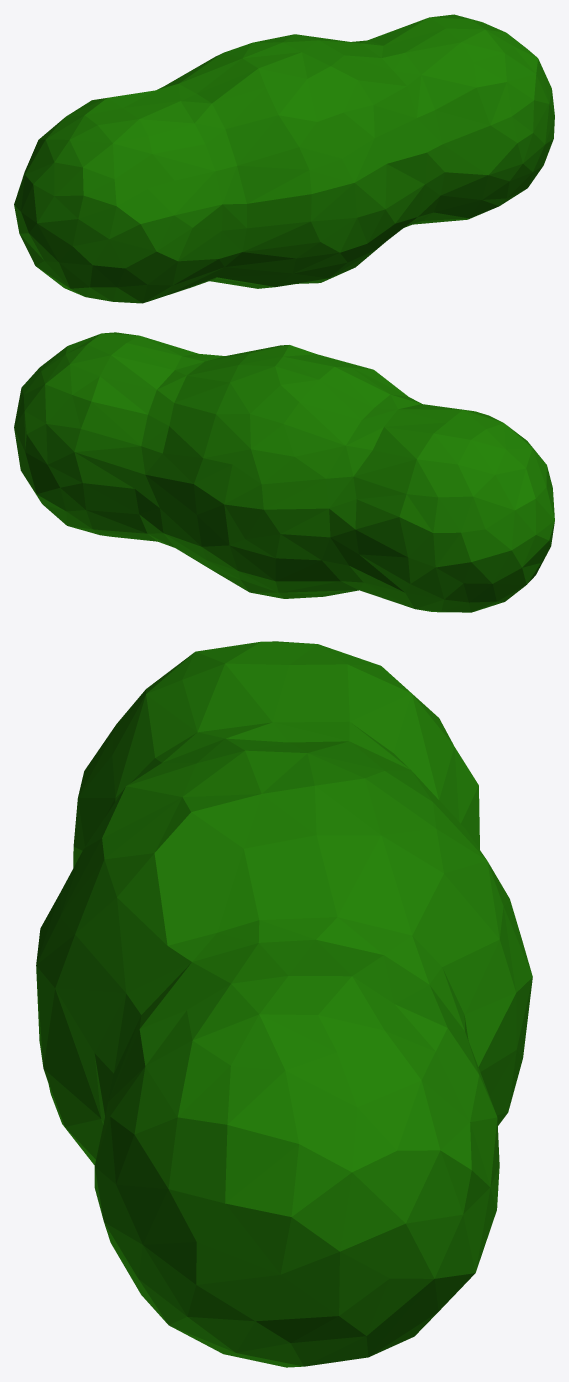
File: newbush.fbx
The picture shows the model from 3 angles, top to bottom: view 1: azimuth 30°, elevation 25°; view 2: azimuth 150°, elevation 25°; view 3: azimuth 270°, elevation 25°; orthographic projection. The views are drawn at different scales.
Parts seen in each view (by area): view 1: bush; view 2: bush; view 3: bush.
Boxes of the visible parts, x1,y1,x2,y2 form: bush: (14,14,554,303); bush: (14,332,554,612); bush: (36,641,532,1367).
Bounding box in the file's own units: 802 × 332 × 333.
